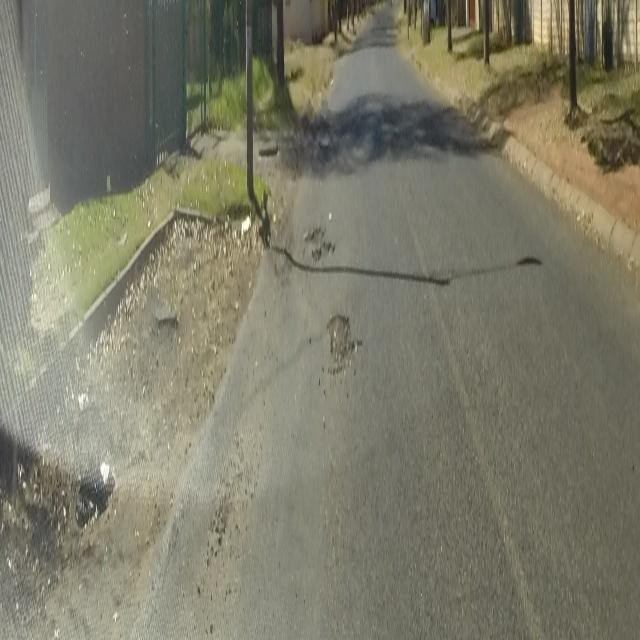pothole: (324, 302, 363, 380), (304, 218, 336, 263)
